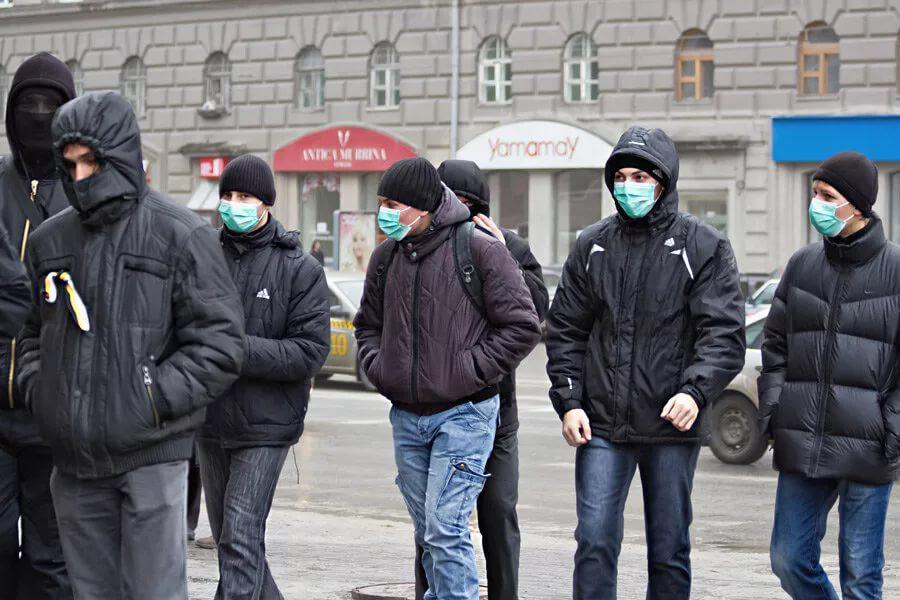mask: (614, 148, 669, 216), (806, 168, 858, 234), (374, 185, 424, 242), (219, 176, 269, 233)
none: (8, 73, 70, 154), (58, 135, 120, 215)
